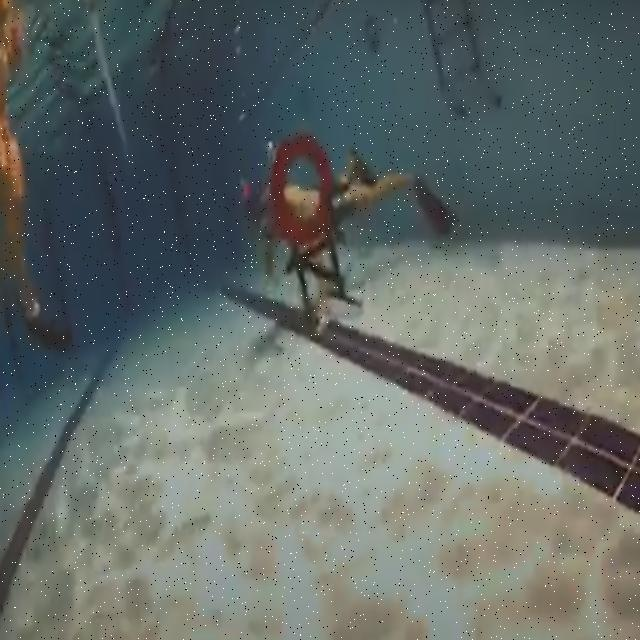Circle: (268, 132, 334, 245)
